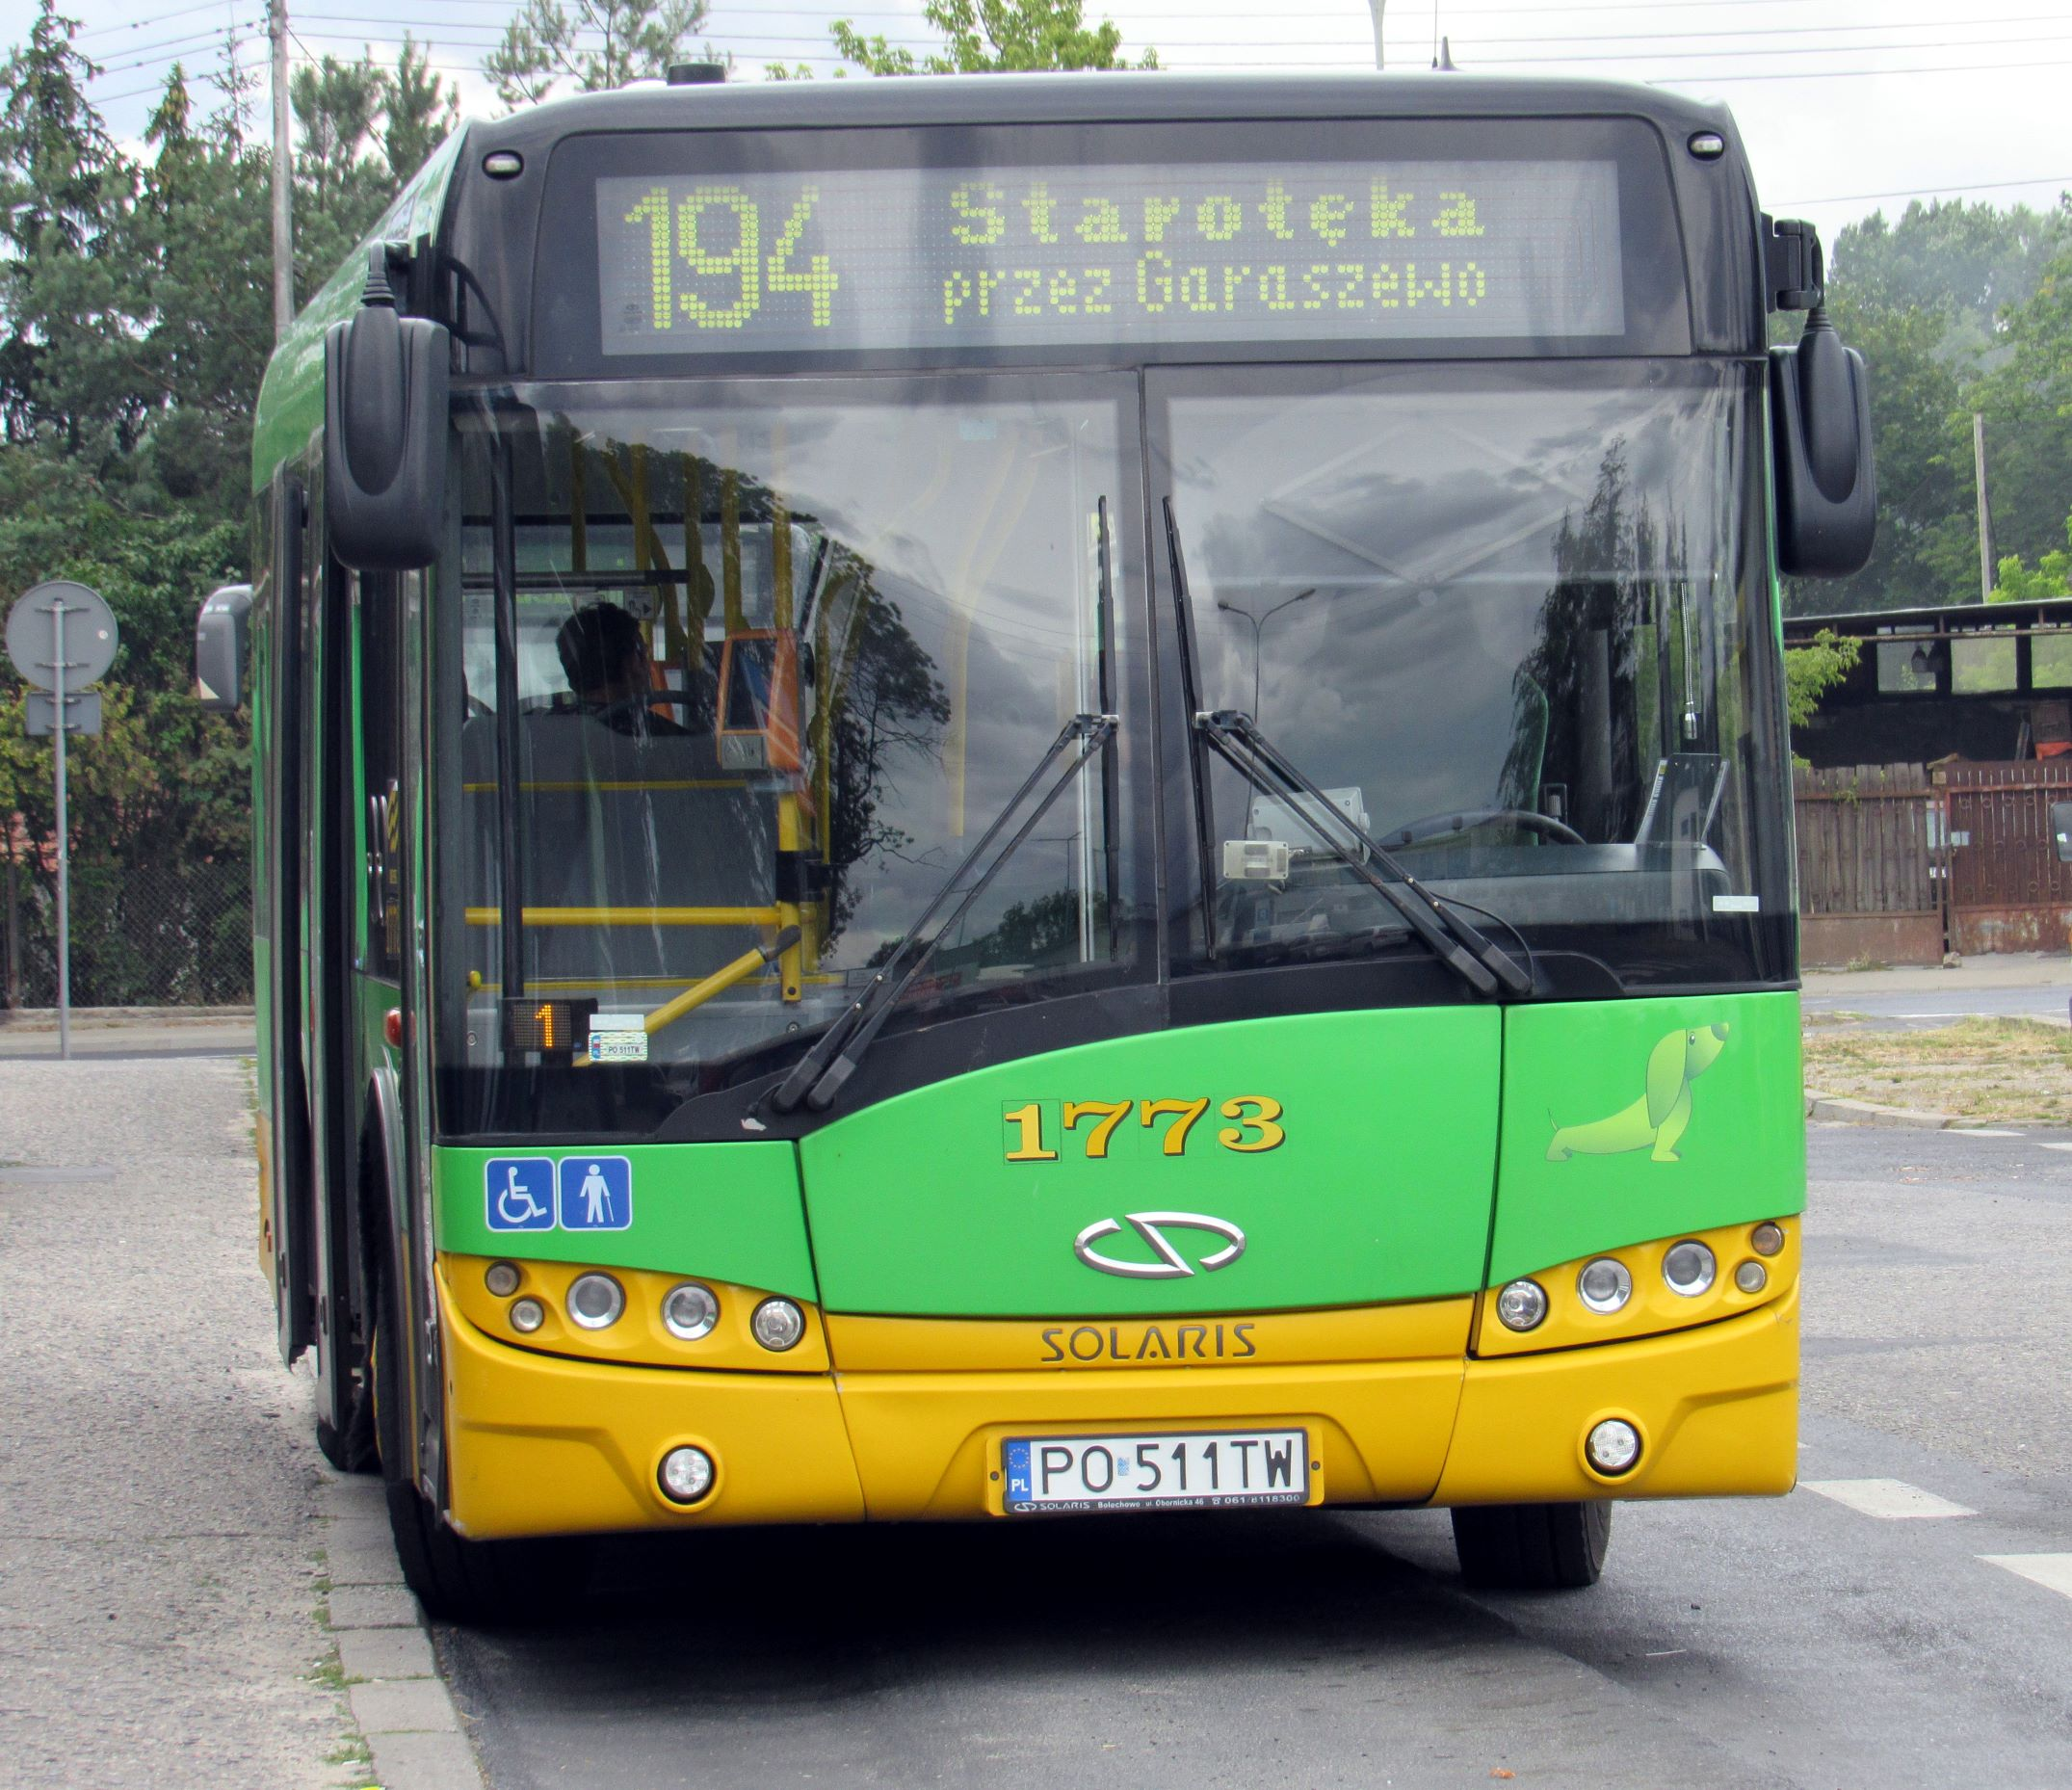tablica: (1004, 1441, 1300, 1498)
